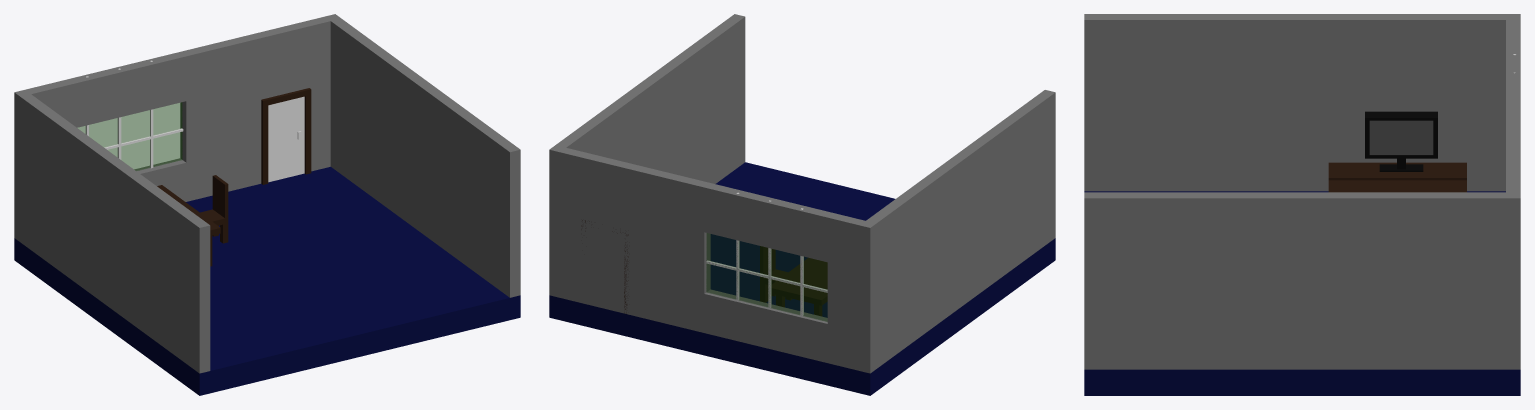
File: House.fbx
3 views of the same model, side by side, from view 1: azimuth 30°, elevation 25°; view 2: azimuth 150°, elevation 25°; view 3: azimuth 270°, elevation 25° (orthographic). The views are drawn at different scales.
Visible parts, largest first — view 1: cube; view 2: cube; view 3: cube.
Boxes of the visible parts, <box> form: cube: <box>14,14,520,395</box>; cube: <box>549,14,1055,395</box>; cube: <box>1084,14,1520,395</box>.
Bounding box in the file's own units: 1125 × 563 × 1125.
